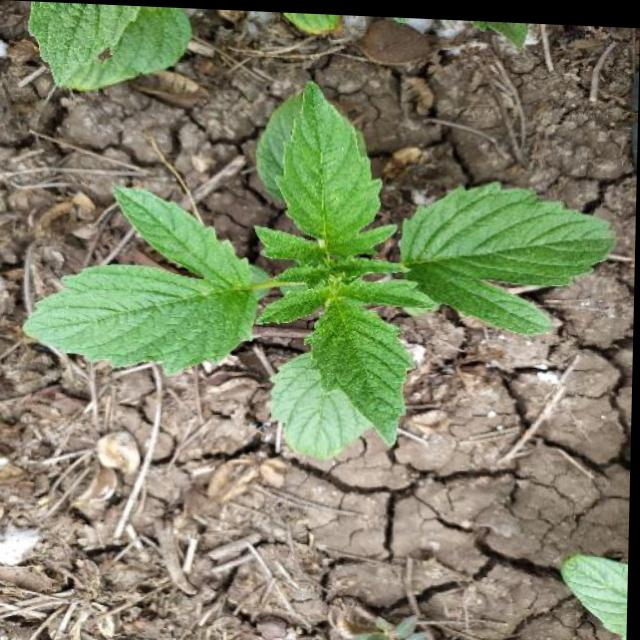crop: (13, 68, 624, 462)
